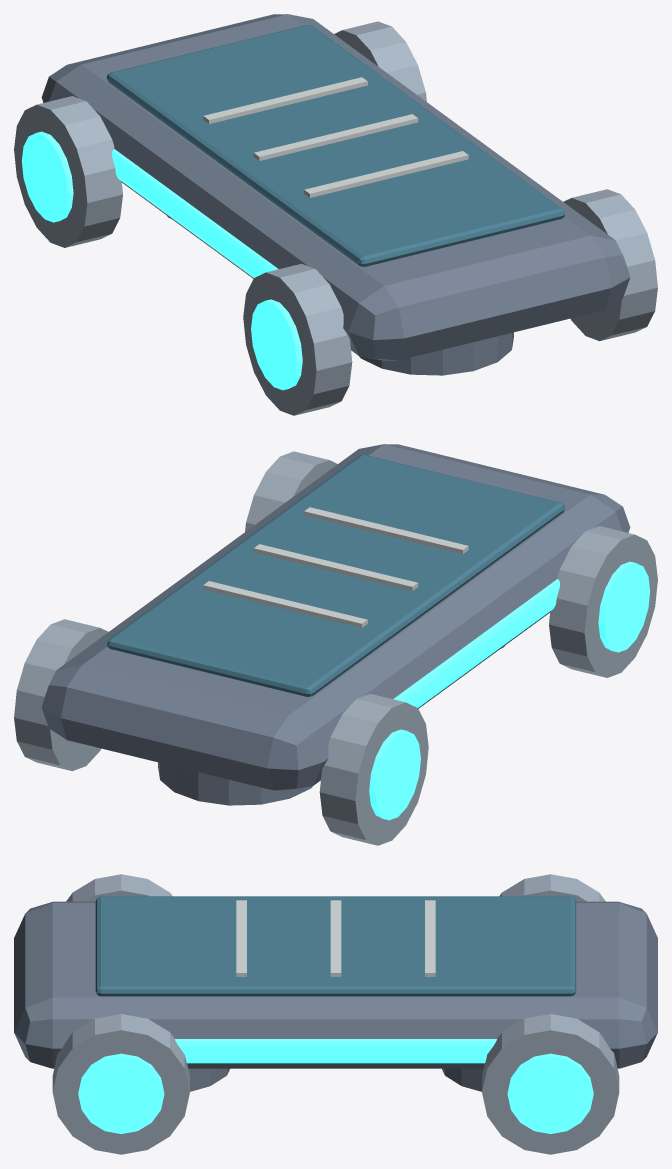
Rendered from electric-board.glb.
3 views of the same model, one above another, from view 1: azimuth 30°, elevation 25°; view 2: azimuth 150°, elevation 25°; view 3: azimuth 270°, elevation 25° (orthographic). The views are drawn at different scales.
Parts seen in each view (by area): view 1: Rounded carbon deck, Inset grip, Magnetic wheel, Illuminated edge, Grip crossbar; view 2: Rounded carbon deck, Inset grip, Magnetic wheel, Illuminated edge, Grip crossbar; view 3: Inset grip, Rounded carbon deck, Magnetic wheel, Illuminated edge, Grip crossbar.
Boxes of the visible parts, left/top/right/bottom form: Rounded carbon deck: left=41, top=14, right=630, bottom=375; Inset grip: left=106, top=25, right=565, bottom=266; Magnetic wheel: left=14, top=21, right=657, bottom=415; Illuminated edge: left=22, top=131, right=302, bottom=390; Grip crossbar: left=203, top=77, right=468, bottom=197; Rounded carbon deck: left=41, top=444, right=630, bottom=805; Inset grip: left=106, top=455, right=565, bottom=696; Magnetic wheel: left=14, top=451, right=657, bottom=845; Illuminated edge: left=369, top=561, right=649, bottom=820; Grip crossbar: left=203, top=507, right=468, bottom=627; Inset grip: left=95, top=896, right=576, bottom=996; Rounded carbon deck: left=14, top=901, right=657, bottom=1091; Magnetic wheel: left=52, top=874, right=619, bottom=1154; Illuminated edge: left=78, top=1039, right=593, bottom=1133; Grip crossbar: left=236, top=900, right=435, bottom=976.
Bounding box in the file's own units: 0.89 × 0.36 × 1.5.
